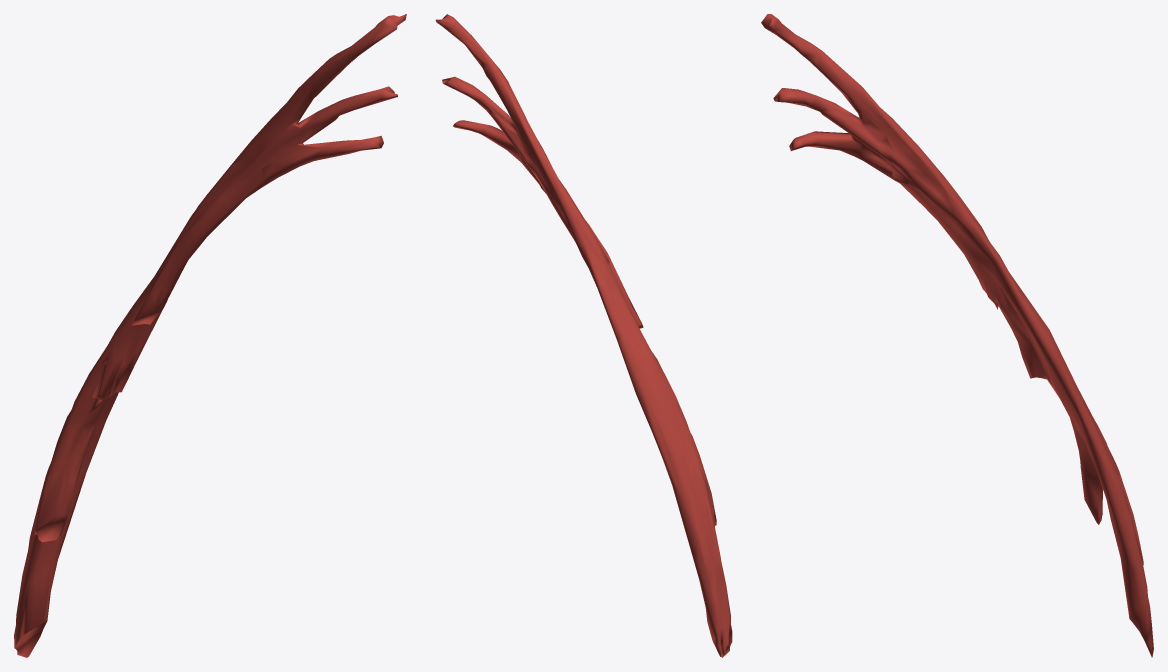
File: musculos-iliocostalis-colli-muscle-r.glb
3 renders of one model, left to right at view 1: azimuth 30°, elevation 25°; view 2: azimuth 210°, elevation 25°; view 3: azimuth 270°, elevation 25°, orthographic. The views are drawn at different scales.
Parts seen in each view (by area): view 1: Iliocostalis colli muscle.r; view 2: Iliocostalis colli muscle.r; view 3: Iliocostalis colli muscle.r.
Part boxes in pixels (x1,y1,x2,y2): Iliocostalis colli muscle.r: (14,14,406,657); Iliocostalis colli muscle.r: (435,14,732,657); Iliocostalis colli muscle.r: (761,14,1153,657).
Bounding box in the file's own units: 0.0505 × 0.1763 × 0.0869.
